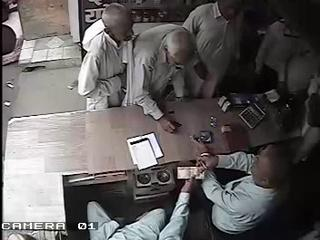Normal: (190, 98, 312, 240), (121, 23, 198, 134), (87, 176, 197, 240), (178, 0, 244, 99)
shoplifting: (77, 3, 134, 111)
